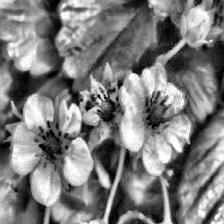Blossom Blight: (32, 119, 76, 173), (138, 90, 176, 139), (92, 89, 119, 126)
